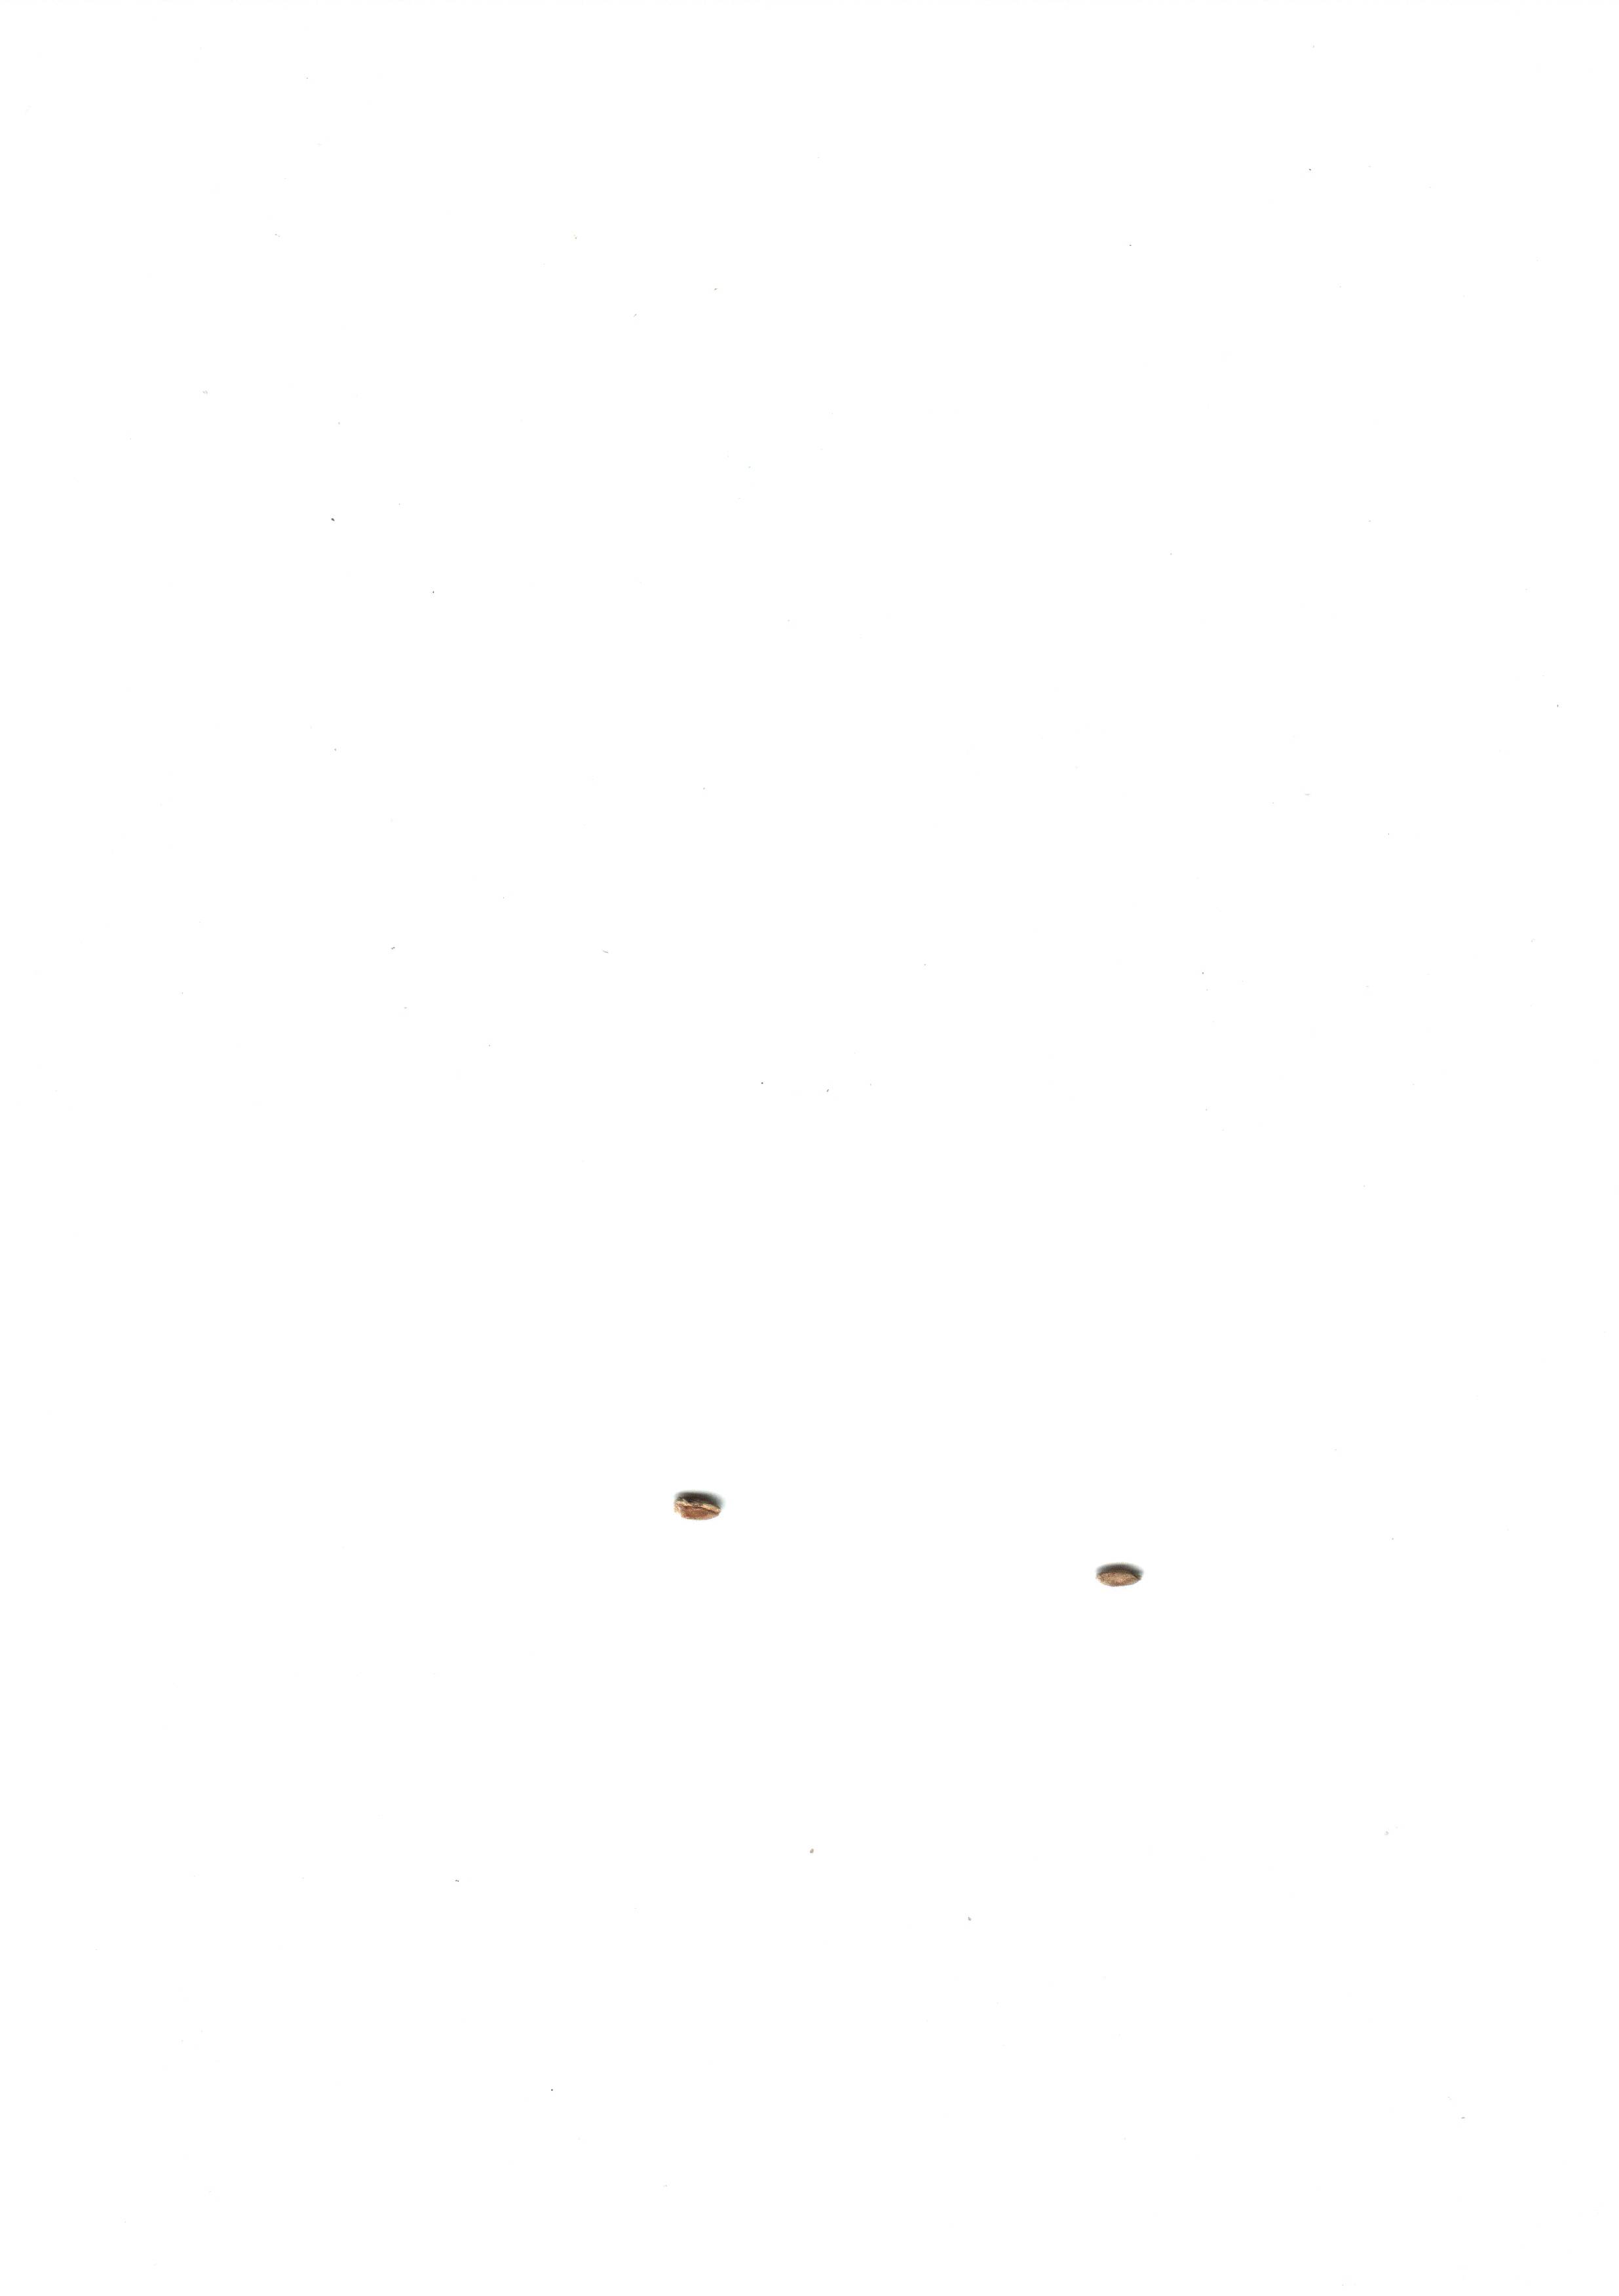grains_2mm: (668, 1481, 727, 1541), (1095, 1549, 1149, 1612)
